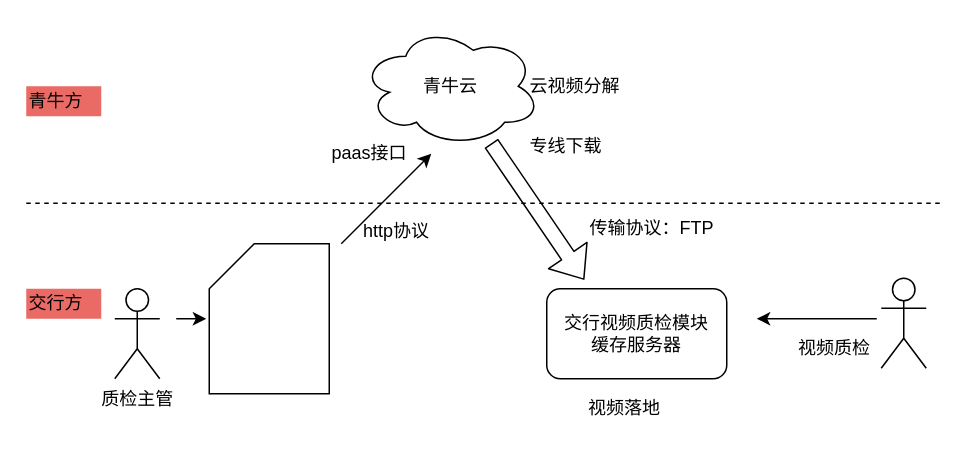
Some shapes in this 969 by 450 pixel diagram are drawn without their labels. Here are the shapes that lost their labels. From the top down, the centre of each, then its label:
point (268, 318): 质检视频需求列表.xls
point (903, 322): 质检员
